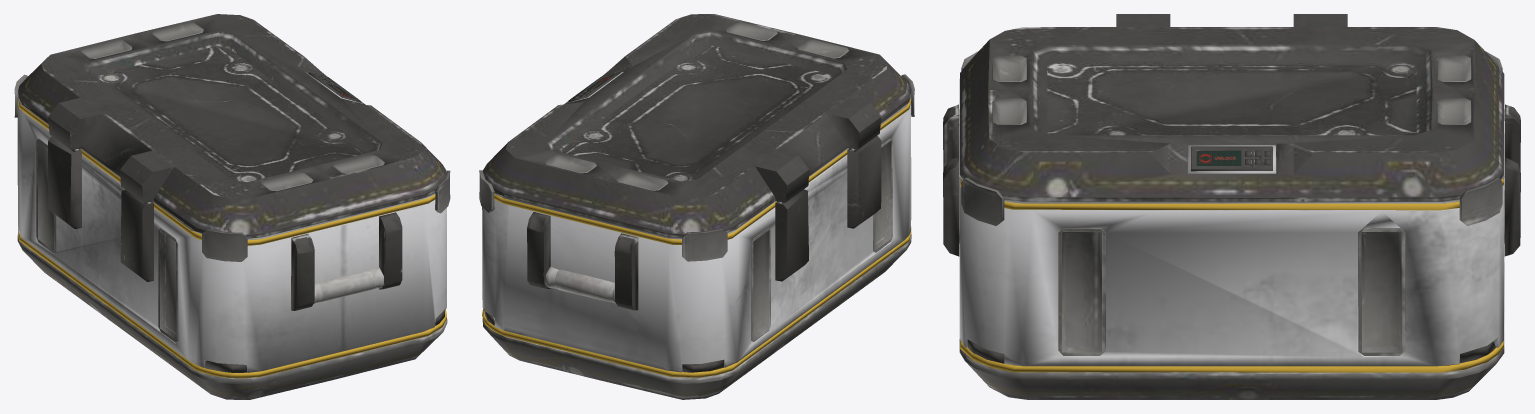
Rendered from cargo_crate.glb.
3 renders of one model, left to right at view 1: azimuth 30°, elevation 25°; view 2: azimuth 150°, elevation 25°; view 3: azimuth 270°, elevation 25°, orthographic. The views are drawn at different scales.
Parts seen in each view (by area): view 1: KB3D_MTM_PropCrate_A; view 2: KB3D_MTM_PropCrate_A; view 3: KB3D_MTM_PropCrate_A.
Part boxes in pixels (<box>): KB3D_MTM_PropCrate_A: <box>14,14,450,399</box>; KB3D_MTM_PropCrate_A: <box>479,14,914,399</box>; KB3D_MTM_PropCrate_A: <box>943,14,1520,399</box>.
Bounding box in the file's own units: 1.06 × 0.7888 × 1.64.
9 materials, 9 textured.
